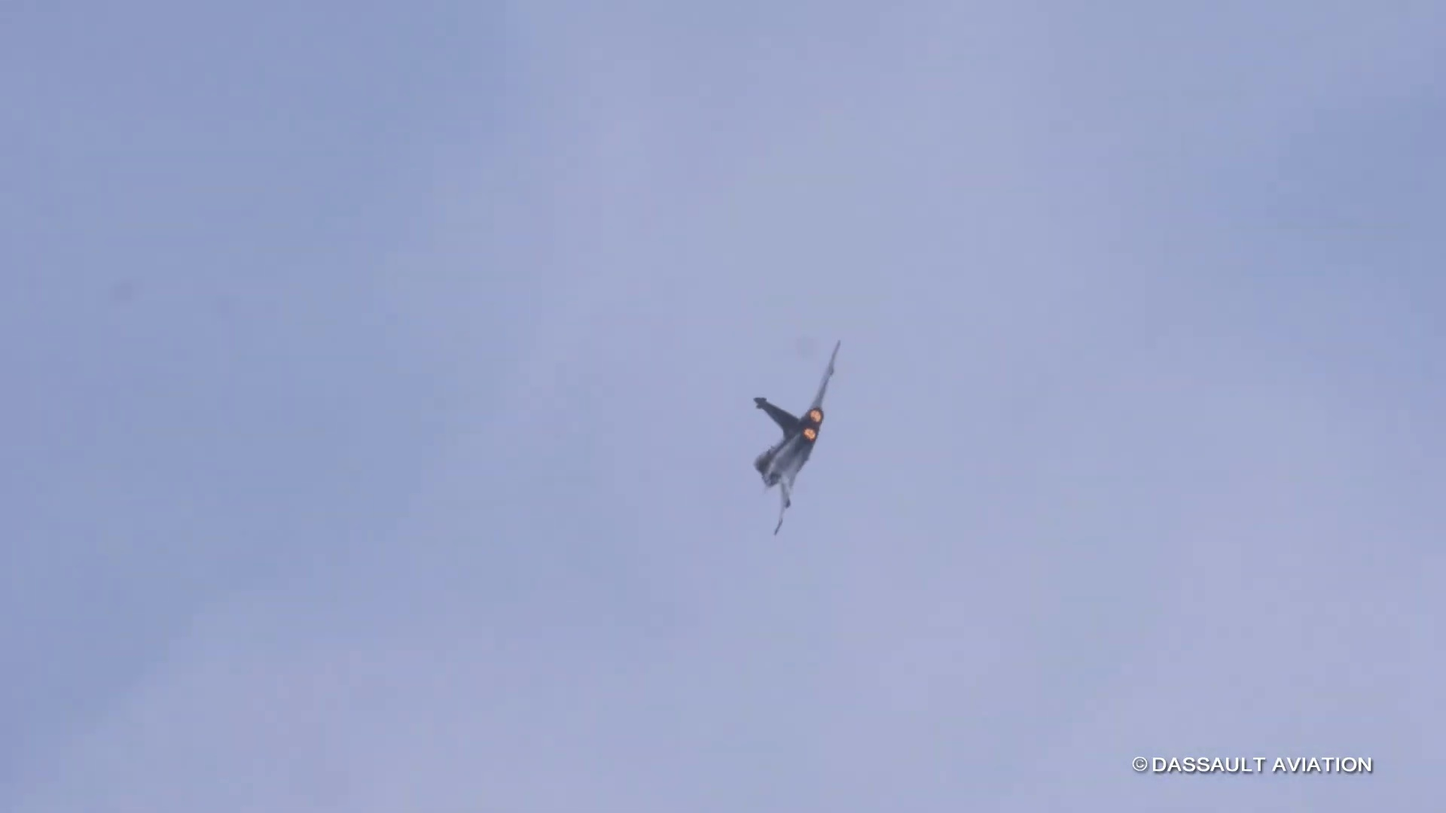Rafale: (749, 340, 845, 539)
